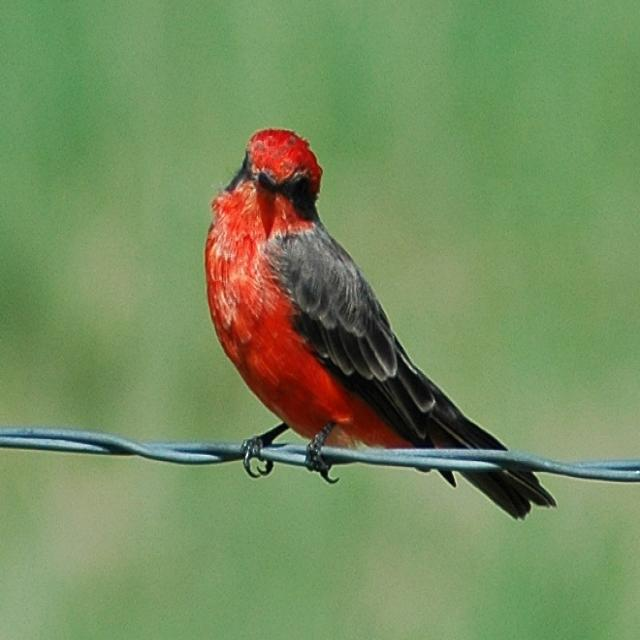bird: (197, 118, 556, 526)
